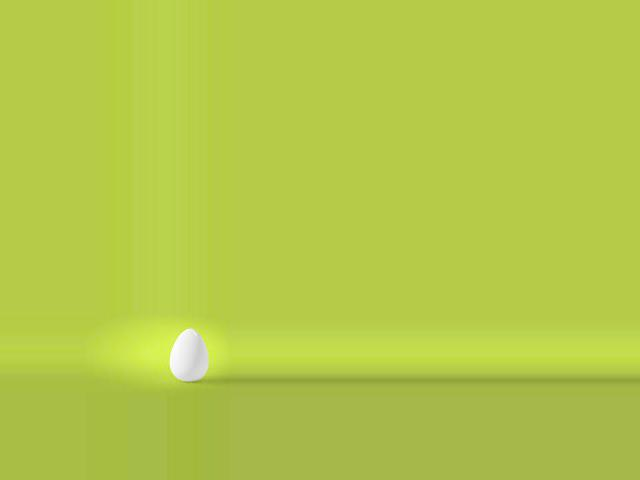egg: (170, 328, 208, 381)
